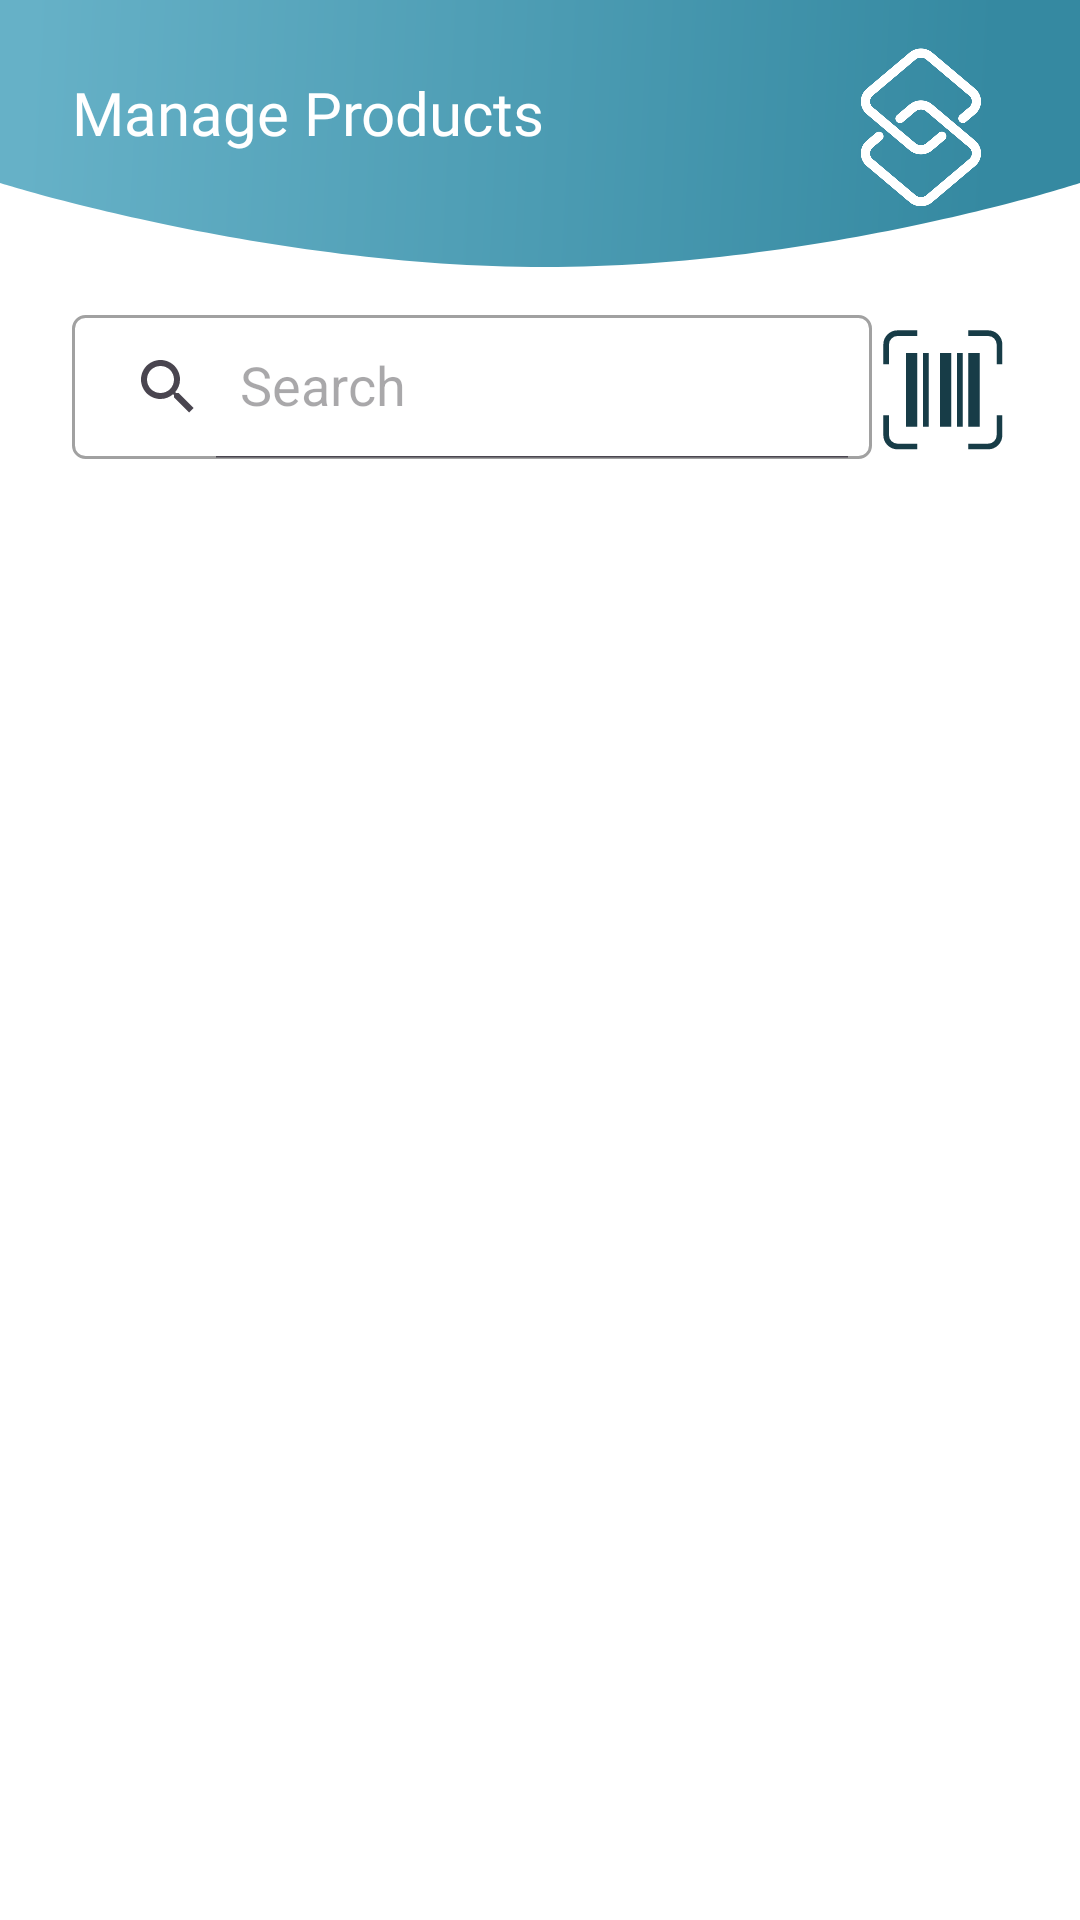

Point at icon controls on the screen. Image size 1080px×1920px, points as (x=x, y=y).
scan bar code: (x=943, y=390)
